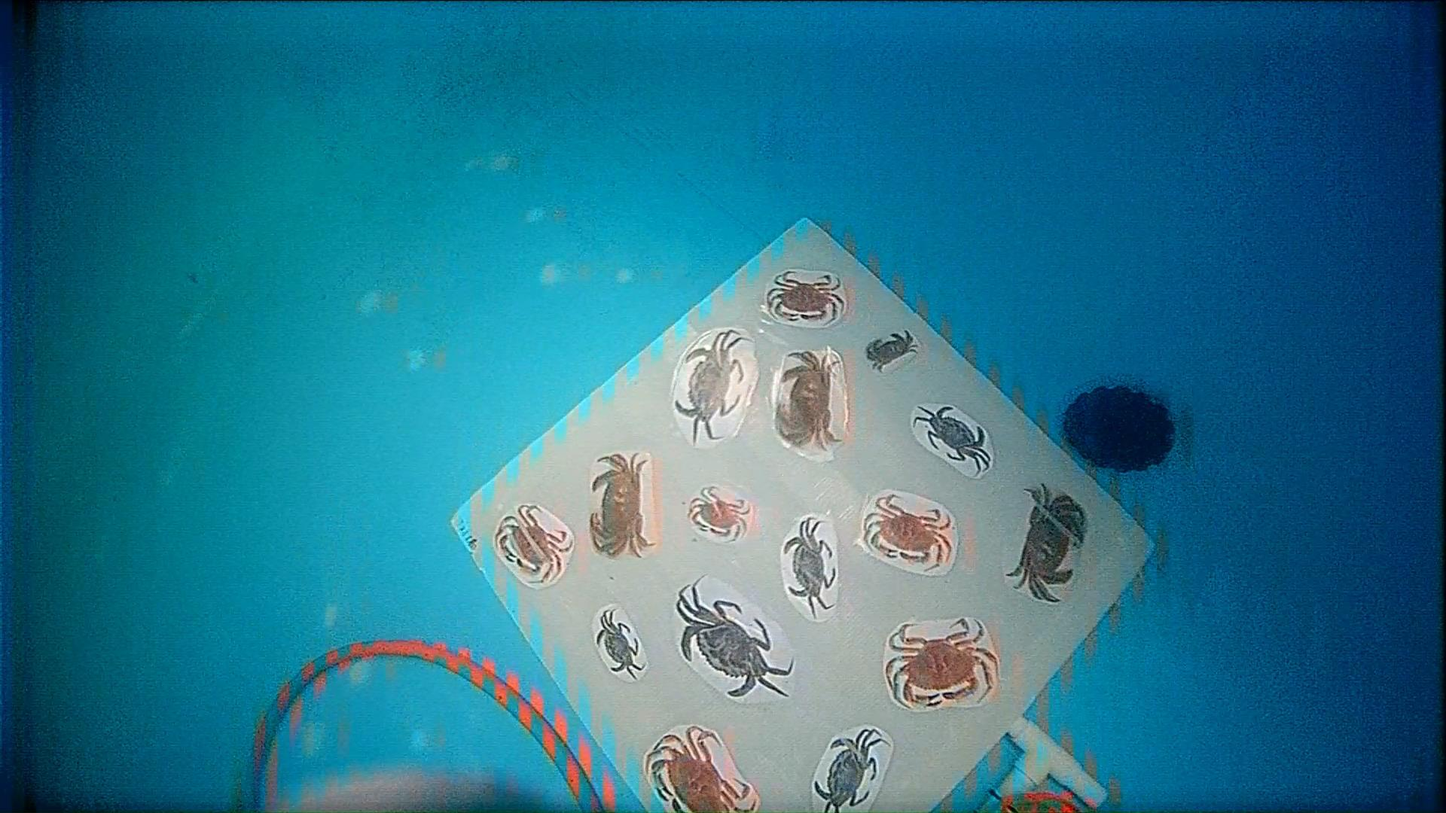GreenCrab: (676, 579, 792, 696), (674, 328, 743, 442), (815, 729, 885, 812), (913, 405, 991, 474), (783, 519, 836, 620), (596, 609, 642, 674)
